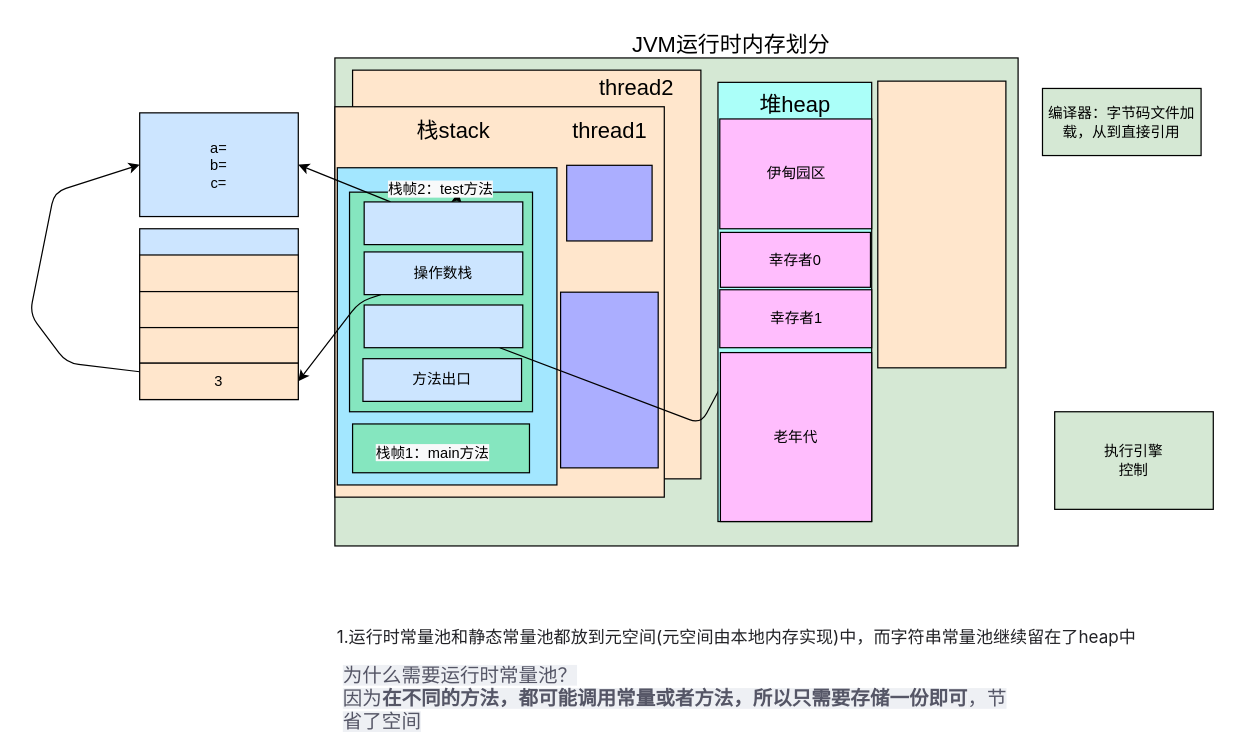
Image size: 1235x755. Some labels were removed from this diagram. The centre of each missing label's shape, as x and y in pixels:
"PC寄存器/程序计数器" goes at (608,202).
"动态链接" goes at (443,326).
"局部变量表" goes at (443,223).
"方法区： 类信息，类、方法名，运行时常量池，静态常量池" goes at (941,224).
"本地方法栈： native方法，会从这里开辟空间" goes at (608,379).
